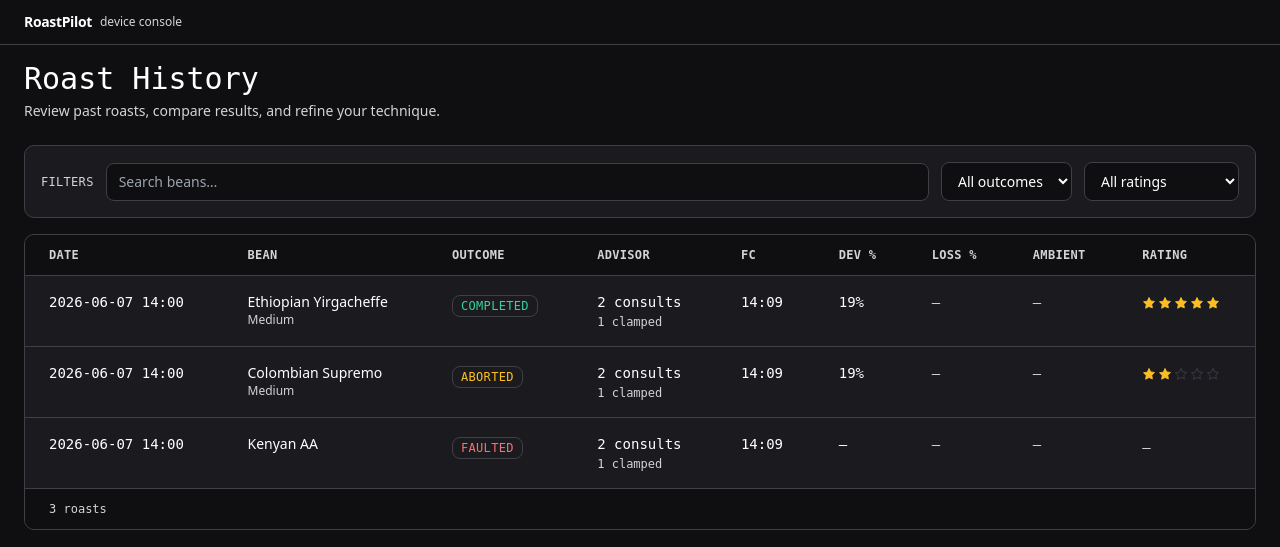
it: HistoryPage › filters by minimum rating, excluding unrated runs
Expected: the number of links with test id "history-row" is 3, [25, 276, 1255, 346]; [25, 346, 1255, 418]; [25, 418, 1255, 488]
Step 1. Select "★★★ and up" in the dropdown named "Filter by minimum rating" → (1162, 182), box [1084, 162, 1239, 201]
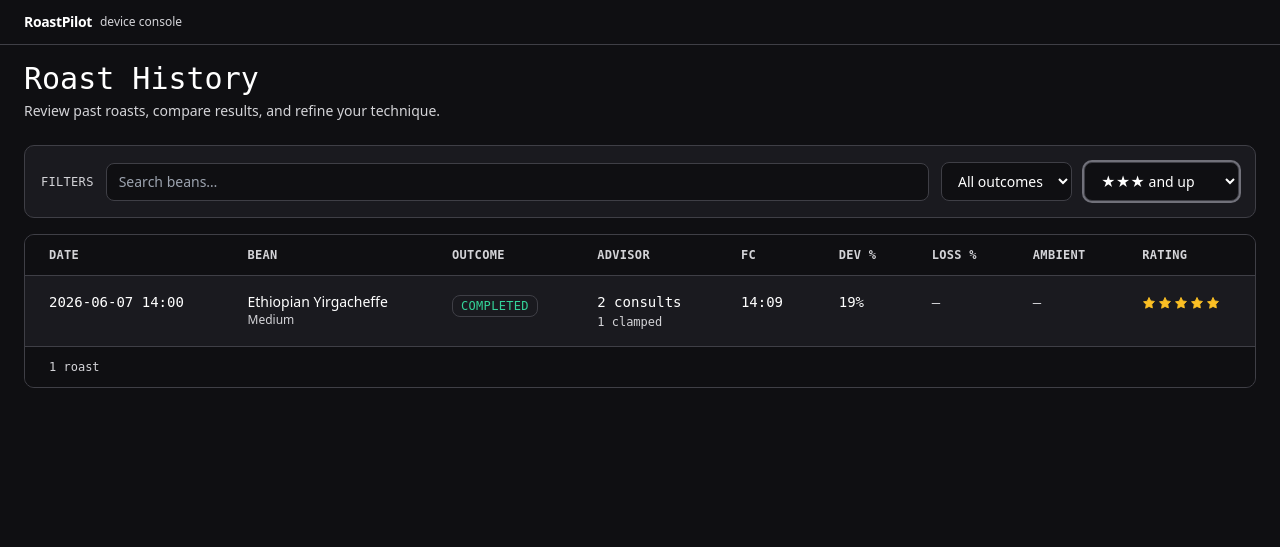
Result: the number of links with test id "history-row" is 1 at [25, 276, 1255, 346]
